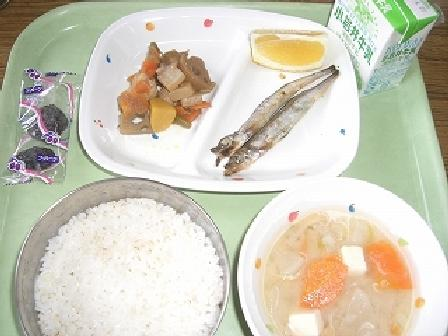Citrus: (242, 24, 332, 75)
Fish: (205, 62, 346, 177)
Milk: (319, 0, 437, 92)
Rice: (19, 186, 233, 334)
Soups: (237, 180, 445, 335)
vegetable based cooked food: (106, 36, 210, 141)
